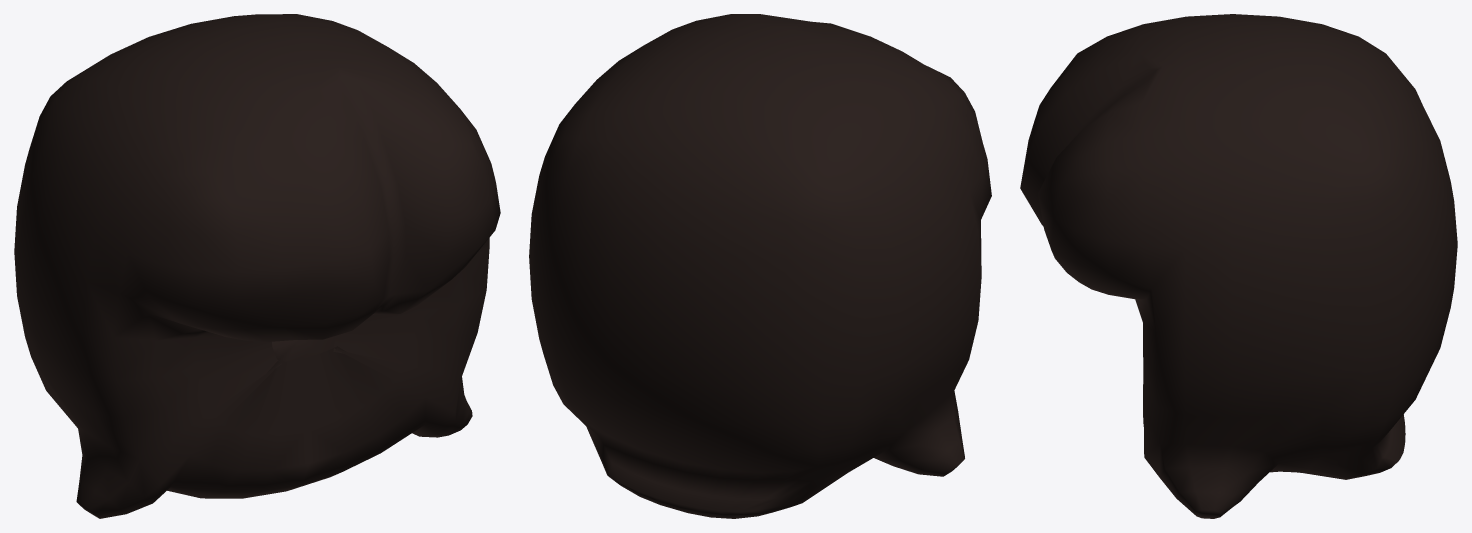
File: Start_1.fbx
3 views of the same model, side by side, from view 1: azimuth 30°, elevation 25°; view 2: azimuth 150°, elevation 25°; view 3: azimuth 270°, elevation 25° (orthographic). The views are drawn at different scales.
Parts seen in each view (by area): view 1: hair_01; view 2: hair_01; view 3: hair_01.
Part boxes in pixels (x1,y1,x2,y2): hair_01: (14,14,500,518); hair_01: (529,14,991,518); hair_01: (1020,14,1457,518).
Size of the model in its own units: 44.46 by 45.53 by 43.25.
